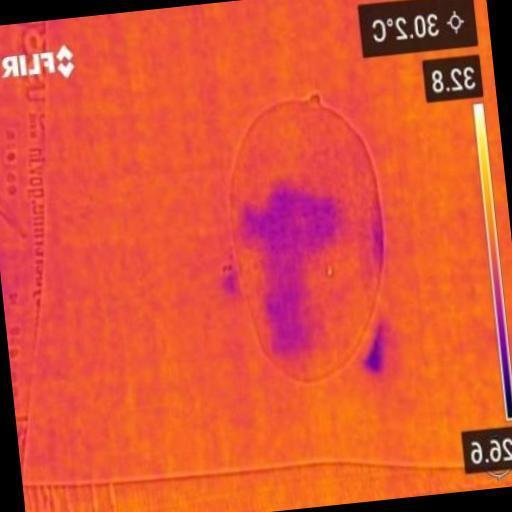alphanso: (232, 97, 383, 380)
